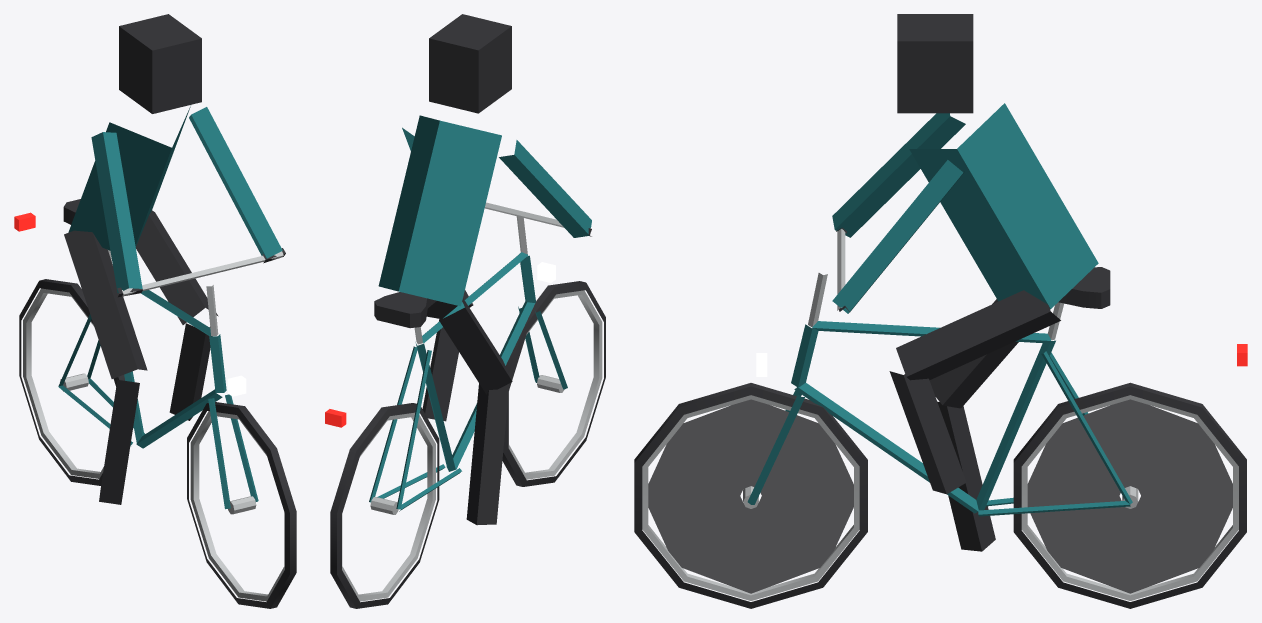
The model's file is bicycle_lod1.glb.
3 views of the same model, side by side, from view 1: azimuth 30°, elevation 25°; view 2: azimuth 150°, elevation 25°; view 3: azimuth 270°, elevation 25° (orthographic). The views are drawn at different scales.
Parts seen in each view (by area): view 1: bicycle_lod1; view 2: bicycle_lod1; view 3: bicycle_lod1.
Part boxes in pixels (x1,y1,x2,y2): bicycle_lod1: [14, 14, 296, 608]; bicycle_lod1: [325, 14, 605, 608]; bicycle_lod1: [634, 14, 1247, 608].
Bounding box in the file's own units: 0.0302 × 0.0885 × 0.0849.
